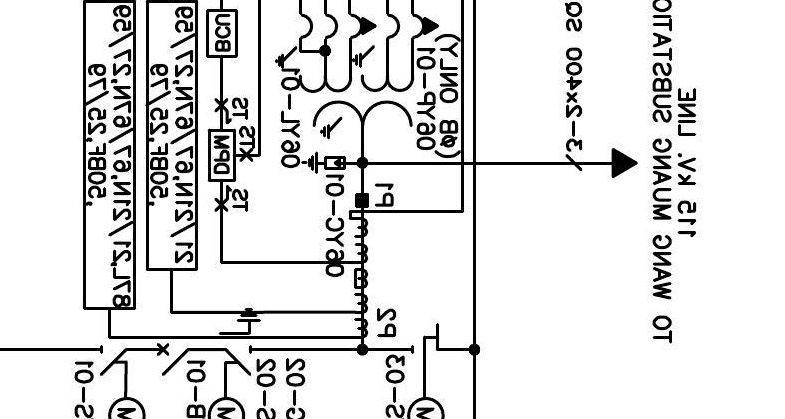115_breaker: (157, 343, 189, 377)
115_la: (300, 151, 346, 175)
115_vt_1p: (274, 12, 440, 141)
BCU: (205, 8, 239, 59)
DPM: (207, 129, 237, 183)
